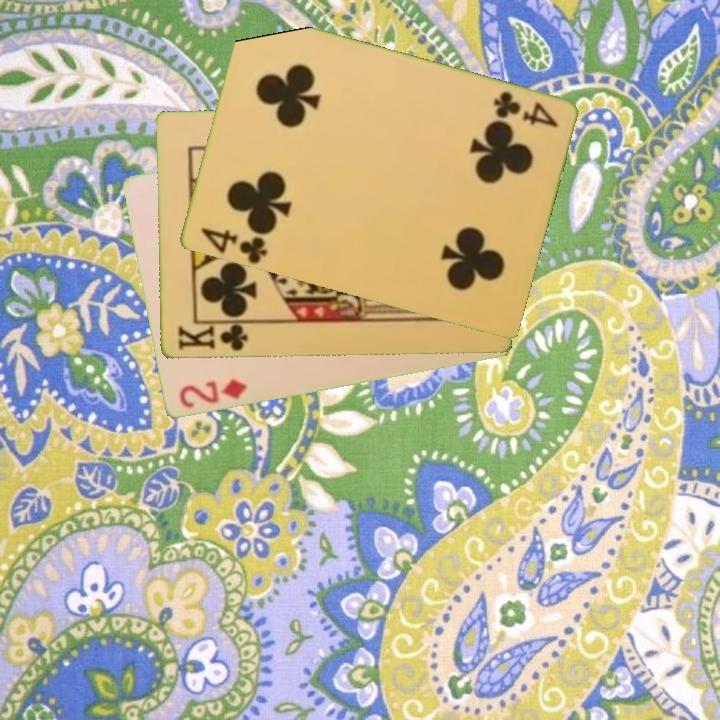2d: (175, 376, 250, 411)
4c: (196, 224, 270, 266), (489, 88, 561, 131)
Kc: (174, 319, 253, 354)
